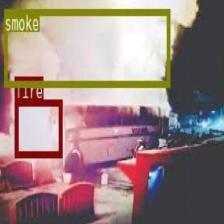fire: (14, 98, 61, 156)
smoke: (4, 8, 170, 86)
